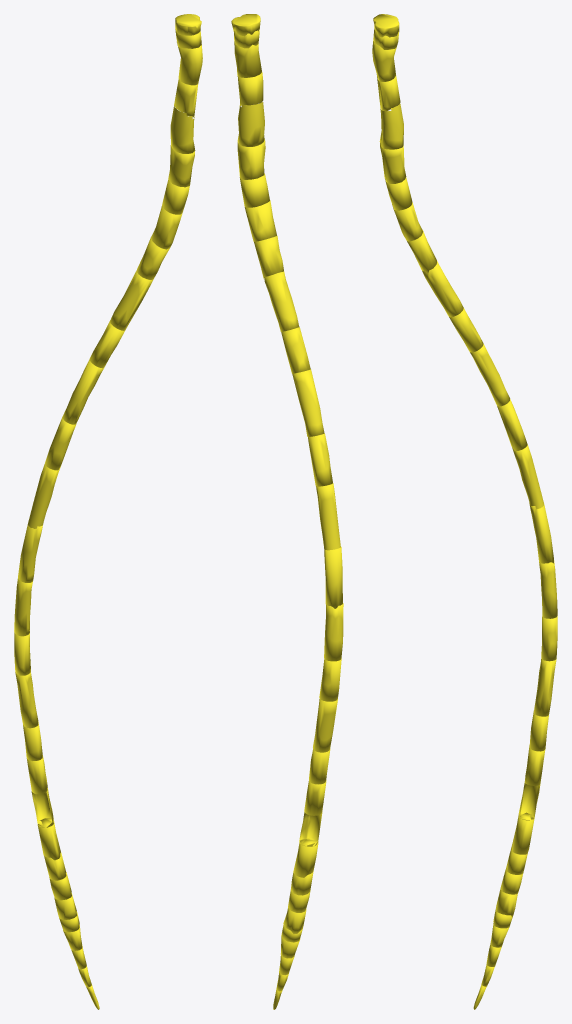
File: vh_m_spinal_cord-20.glb
3 renders of one model, left to right at view 1: azimuth 90°, elevation 25°; view 2: azimuth 210°, elevation 25°; view 3: azimuth 270°, elevation 25°, orthographic. The views are drawn at different scales.
Visible parts, largest first — view 1: VH_M_second_thoracic_spinal_cord_segment, VH_M_fourth_thoracic_spinal_cord_segment, VH_M_sixth_thoracic_spinal_cord_segment, VH_M_C5_segment_of_cervical_spinal_cord, VH_M_seventh_thoracic_spinal_cord_segment, VH_M_tenth_thoracic_spinal_cord_segment, VH_M_eighth_thoracic_spinal_cord_segment, VH_M_fifth_thoracic_spinal_cord_segment, VH_M_C3_segment_of_cervical_spinal_cord, VH_M_C8_segment_of_cervical_spinal_cord, VH_M_C6_segment_of_cervical_spinal_cord, VH_M_third_thoracic_spinal_cord_segment (+9 smaller); view 2: VH_M_fourth_thoracic_spinal_cord_segment, VH_M_second_thoracic_spinal_cord_segment, VH_M_sixth_thoracic_spinal_cord_segment, VH_M_C5_segment_of_cervical_spinal_cord, VH_M_seventh_thoracic_spinal_cord_segment, VH_M_eighth_thoracic_spinal_cord_segment, VH_M_fifth_thoracic_spinal_cord_segment, VH_M_tenth_thoracic_spinal_cord_segment, VH_M_C8_segment_of_cervical_spinal_cord, VH_M_C6_segment_of_cervical_spinal_cord, VH_M_third_thoracic_spinal_cord_segment, VH_M_first_thoracic_spinal_cord_segment (+13 smaller); view 3: VH_M_second_thoracic_spinal_cord_segment, VH_M_fourth_thoracic_spinal_cord_segment, VH_M_sixth_thoracic_spinal_cord_segment, VH_M_C5_segment_of_cervical_spinal_cord, VH_M_tenth_thoracic_spinal_cord_segment, VH_M_seventh_thoracic_spinal_cord_segment, VH_M_eighth_thoracic_spinal_cord_segment, VH_M_fifth_thoracic_spinal_cord_segment, VH_M_C6_segment_of_cervical_spinal_cord, VH_M_third_thoracic_spinal_cord_segment, VH_M_C3_segment_of_cervical_spinal_cord, VH_M_second_lumbar_spinal_cord_segment (+9 smaller).
Boxes of the visible parts, <box> form: VH_M_second_thoracic_spinal_cord_segment: <box>110,270,153,330</box>; VH_M_fourth_thoracic_spinal_cord_segment: <box>62,359,103,424</box>; VH_M_sixth_thoracic_spinal_cord_segment: <box>28,464,60,528</box>; VH_M_C5_segment_of_cervical_spinal_cord: <box>170,105,195,153</box>; VH_M_seventh_thoracic_spinal_cord_segment: <box>18,524,43,582</box>; VH_M_tenth_thoracic_spinal_cord_segment: <box>15,669,38,728</box>; VH_M_eighth_thoracic_spinal_cord_segment: <box>14,578,32,636</box>; VH_M_fifth_thoracic_spinal_cord_segment: <box>45,417,76,470</box>; VH_M_C3_segment_of_cervical_spinal_cord: <box>177,42,202,85</box>; VH_M_C8_segment_of_cervical_spinal_cord: <box>151,206,182,249</box>; VH_M_C6_segment_of_cervical_spinal_cord: <box>168,145,194,187</box>; VH_M_third_thoracic_spinal_cord_segment: <box>89,321,124,368</box>; VH_M_fourth_thoracic_spinal_cord_segment: <box>292,369,324,436</box>; VH_M_second_thoracic_spinal_cord_segment: <box>264,271,299,331</box>; VH_M_sixth_thoracic_spinal_cord_segment: <box>316,483,340,550</box>; VH_M_C5_segment_of_cervical_spinal_cord: <box>237,102,264,146</box>; VH_M_seventh_thoracic_spinal_cord_segment: <box>324,547,342,608</box>; VH_M_eighth_thoracic_spinal_cord_segment: <box>324,603,343,661</box>; VH_M_fifth_thoracic_spinal_cord_segment: <box>308,433,332,486</box>; VH_M_tenth_thoracic_spinal_cord_segment: <box>313,699,337,752</box>; VH_M_C8_segment_of_cervical_spinal_cord: <box>244,200,276,241</box>; VH_M_C6_segment_of_cervical_spinal_cord: <box>237,139,265,179</box>; VH_M_third_thoracic_spinal_cord_segment: <box>281,327,310,373</box>; VH_M_first_thoracic_spinal_cord_segment: <box>254,235,283,278</box>; VH_M_second_thoracic_spinal_cord_segment: <box>422,261,463,317</box>; VH_M_fourth_thoracic_spinal_cord_segment: <box>470,344,509,406</box>; VH_M_sixth_thoracic_spinal_cord_segment: <box>512,444,543,509</box>; VH_M_C5_segment_of_cervical_spinal_cord: <box>379,103,403,149</box>; VH_M_tenth_thoracic_spinal_cord_segment: <box>534,659,556,716</box>; VH_M_seventh_thoracic_spinal_cord_segment: <box>529,502,553,563</box>; VH_M_eighth_thoracic_spinal_cord_segment: <box>539,560,557,618</box>; VH_M_fifth_thoracic_spinal_cord_segment: <box>497,399,527,450</box>; VH_M_C6_segment_of_cervical_spinal_cord: <box>380,143,406,183</box>; VH_M_third_thoracic_spinal_cord_segment: <box>449,307,483,352</box>; VH_M_C3_segment_of_cervical_spinal_cord: <box>372,41,396,81</box>; VH_M_second_lumbar_spinal_cord_segment: <box>511,812,534,854</box>.
Size of the model in its own units: 0.0209 by 0.4652 by 0.0797.
